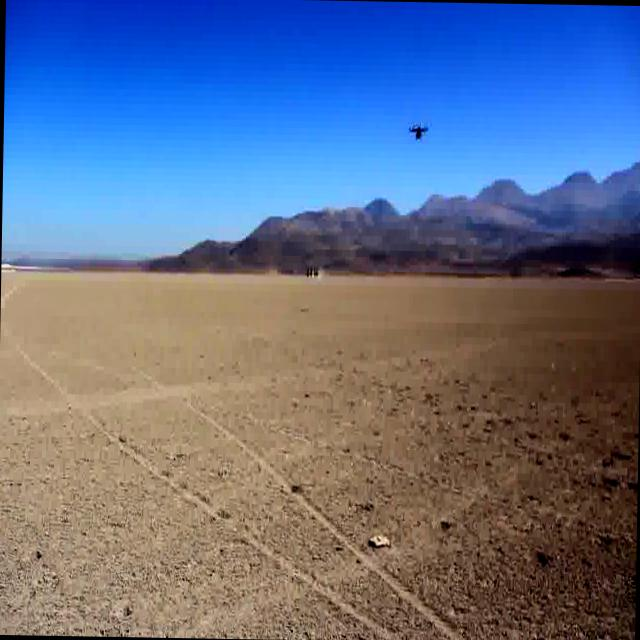drone: (404, 117, 430, 150)
